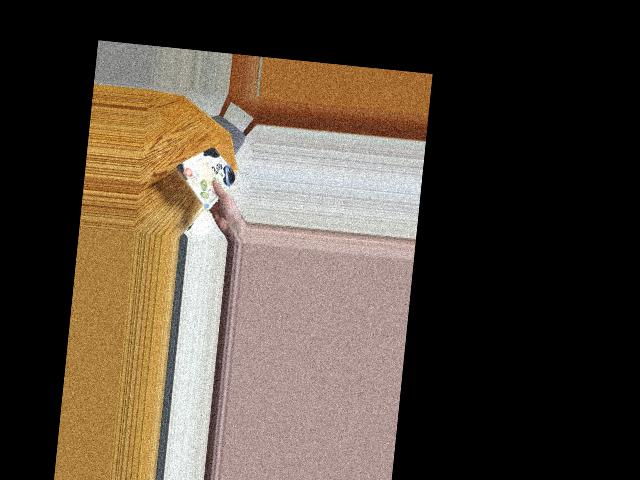cheese: (182, 146, 230, 206)
